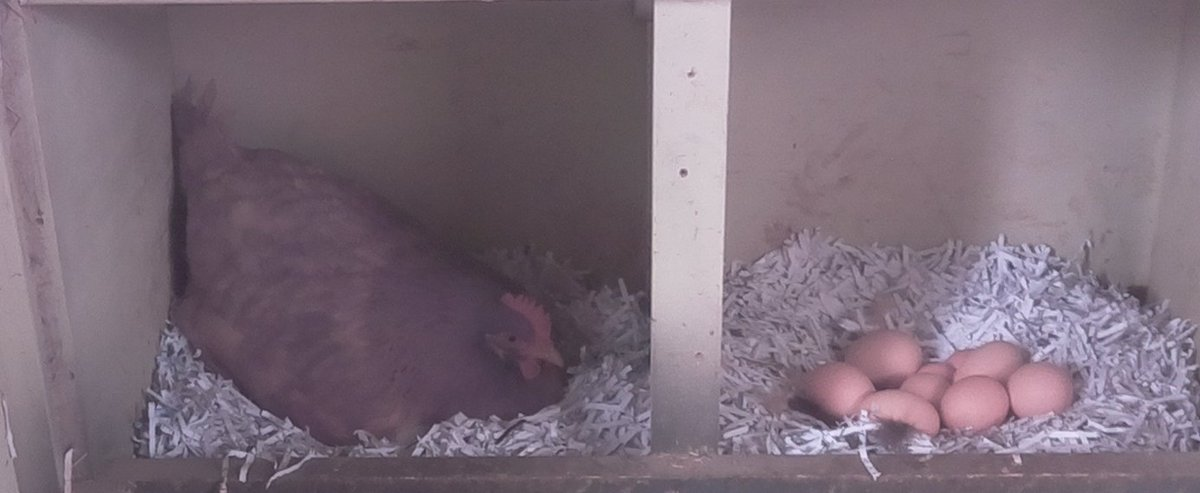egg: (796, 359, 877, 418), (843, 324, 926, 381), (1005, 359, 1079, 422), (942, 376, 1013, 437), (859, 388, 944, 437), (950, 339, 1031, 386), (901, 367, 951, 405), (943, 342, 980, 366), (914, 360, 960, 374)
hen: (174, 124, 575, 445)
